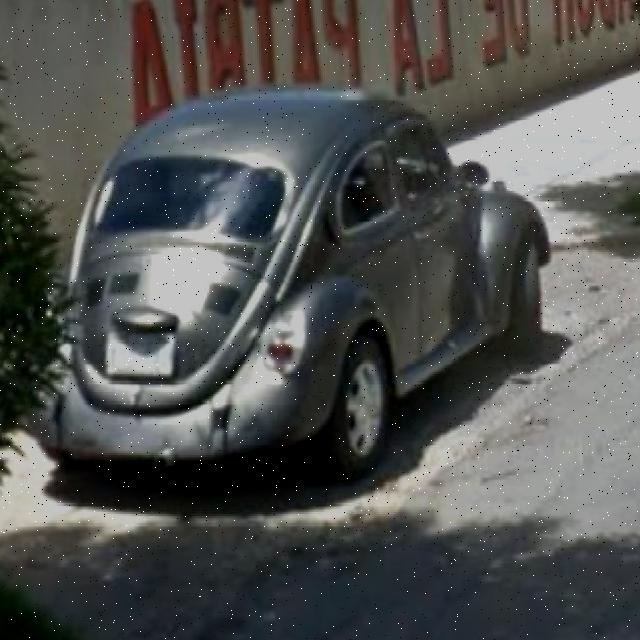car: (34, 91, 558, 468)
